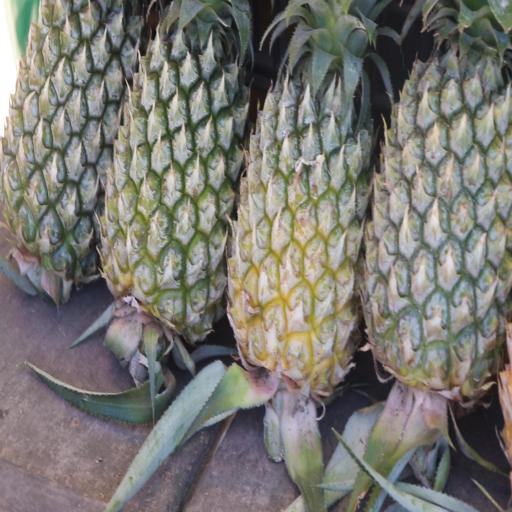------------------------------: (223, 0, 381, 410)
